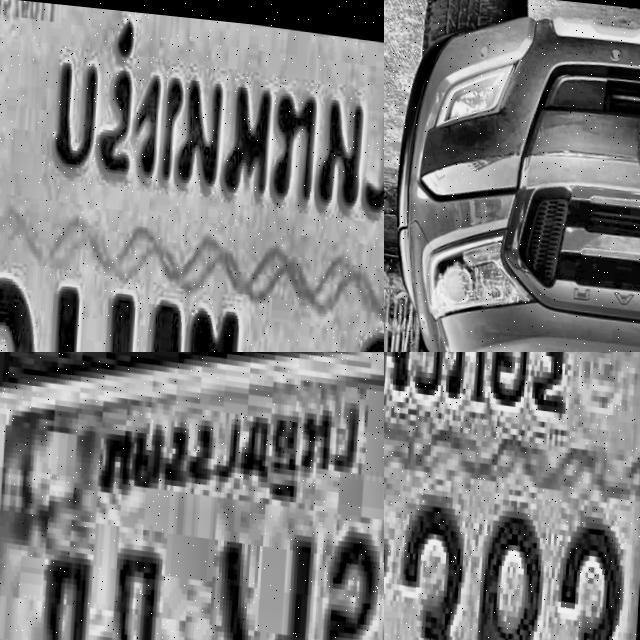license-plate: (0, 0, 384, 352), (0, 352, 384, 640), (384, 352, 640, 640)
